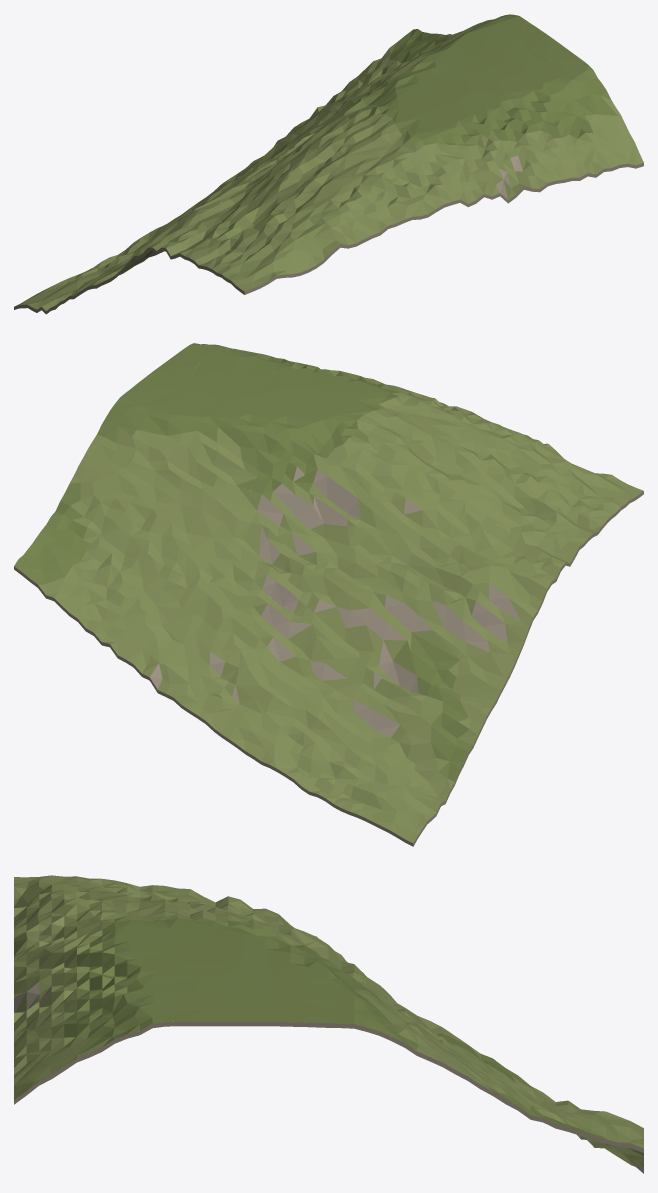
File: parca_+5_-6-uzak.glb
The picture shows the model from 3 angles, top to bottom: view 1: azimuth 30°, elevation 25°; view 2: azimuth 150°, elevation 25°; view 3: azimuth 270°, elevation 25°; orthographic projection. The views are drawn at different scales.
Parts seen in each view (by area): view 1: parca_+5_-6_arazi_uzak; view 2: parca_+5_-6_arazi_uzak; view 3: parca_+5_-6_arazi_uzak.
Boxes of the visible parts, left/top/right/bottom form: parca_+5_-6_arazi_uzak: left=14, top=14, right=643, bottom=314; parca_+5_-6_arazi_uzak: left=14, top=343, right=643, bottom=846; parca_+5_-6_arazi_uzak: left=14, top=875, right=643, bottom=1173.
Size of the model in its own units: 1000 by 661 by 1000.
